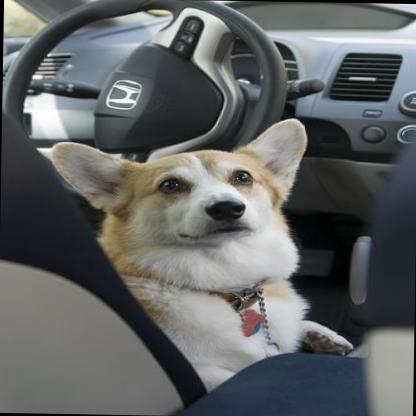Pembroke: (43, 114, 356, 404)
